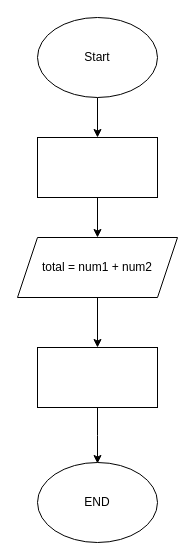
Some shapes in this 195 by 560 pixel diagram are drawn without their labels. The box of each missing label's shape, as (x1, y1, x2, y2) in pixels:
Nhập num1,num2,total: (36, 136, 158, 198)
total: (36, 346, 158, 408)
